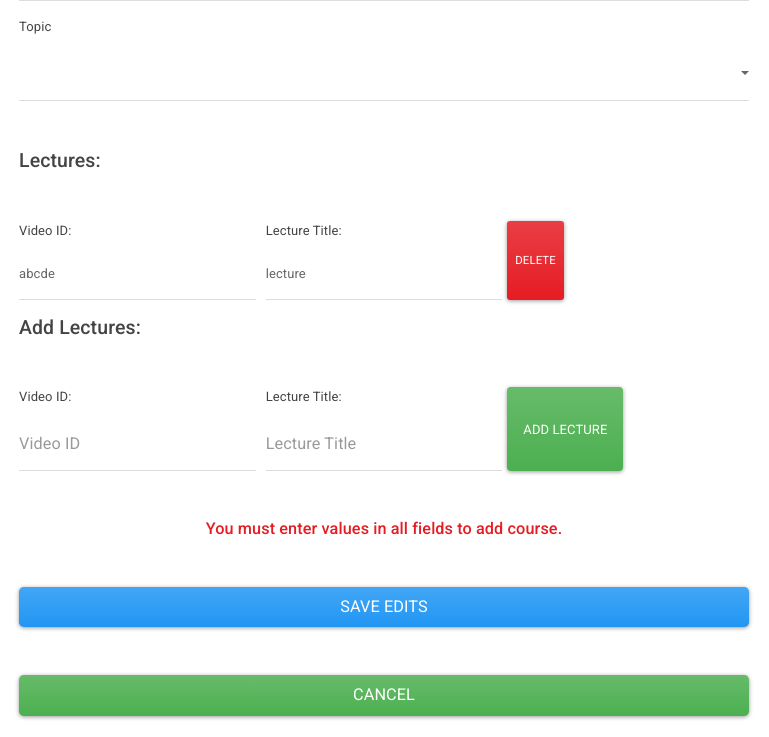
Test: Edit.vue › displays add lecture error message if missing fields
(page scrolled)
Click the button with id "addLectureButton" at (565, 429), box x1=507 y1=387 x2=623 y2=472
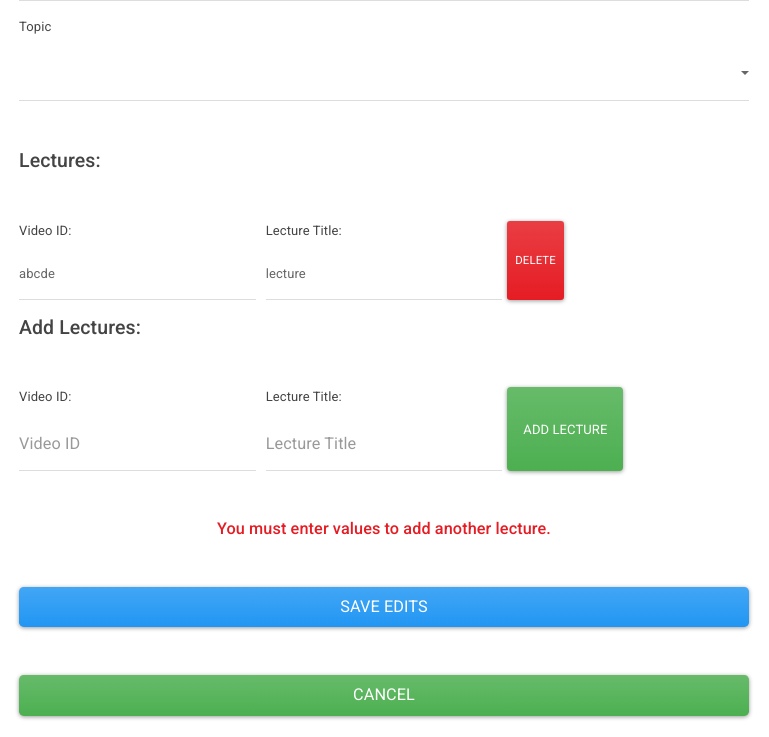
Now the text with id "editCourseFeedback" reads "You must enter values to add another lecture.", box x1=217 y1=520 x2=551 y2=538
